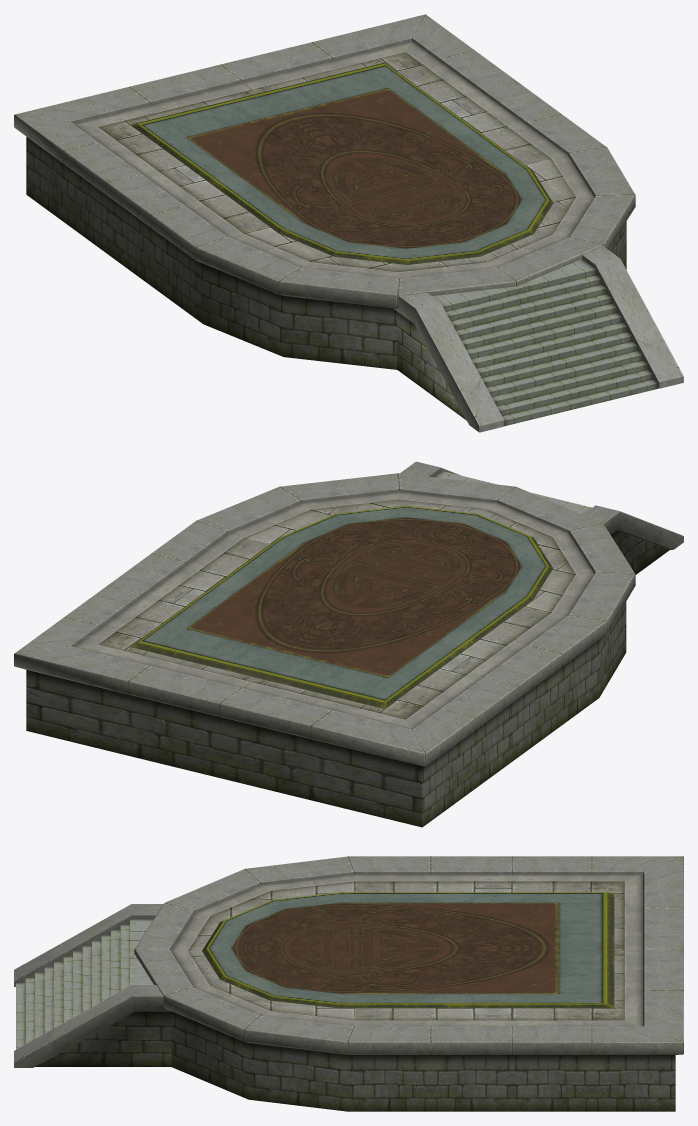
The model's file is Scene_Build_HuanYinFang_YuanTai_3.FBX.
3 views of the same model, one above another, from view 1: azimuth 30°, elevation 25°; view 2: azimuth 150°, elevation 25°; view 3: azimuth 270°, elevation 25° (orthographic). The views are drawn at different scales.
Visible parts, largest first — view 1: Scene_Build_HuanYinFang_YuanTai_3a, Scene_Build_HuanYinFang_YuanTai_3b; view 2: Scene_Build_HuanYinFang_YuanTai_3a, Scene_Build_HuanYinFang_YuanTai_3b; view 3: Scene_Build_HuanYinFang_YuanTai_3a, Scene_Build_HuanYinFang_YuanTai_3b.
Boxes of the visible parts, x1=… form: Scene_Build_HuanYinFang_YuanTai_3a: x1=14, y1=14, x2=683, y2=432; Scene_Build_HuanYinFang_YuanTai_3b: x1=130, y1=62, x2=553, y2=264; Scene_Build_HuanYinFang_YuanTai_3a: x1=14, y1=461, x2=683, y2=827; Scene_Build_HuanYinFang_YuanTai_3b: x1=130, y1=506, x2=553, y2=708; Scene_Build_HuanYinFang_YuanTai_3a: x1=14, y1=856, x2=683, y2=1111; Scene_Build_HuanYinFang_YuanTai_3b: x1=202, y1=892, x2=614, y2=1008.
Bounding box in the file's own units: 1499 × 279 × 2281.
